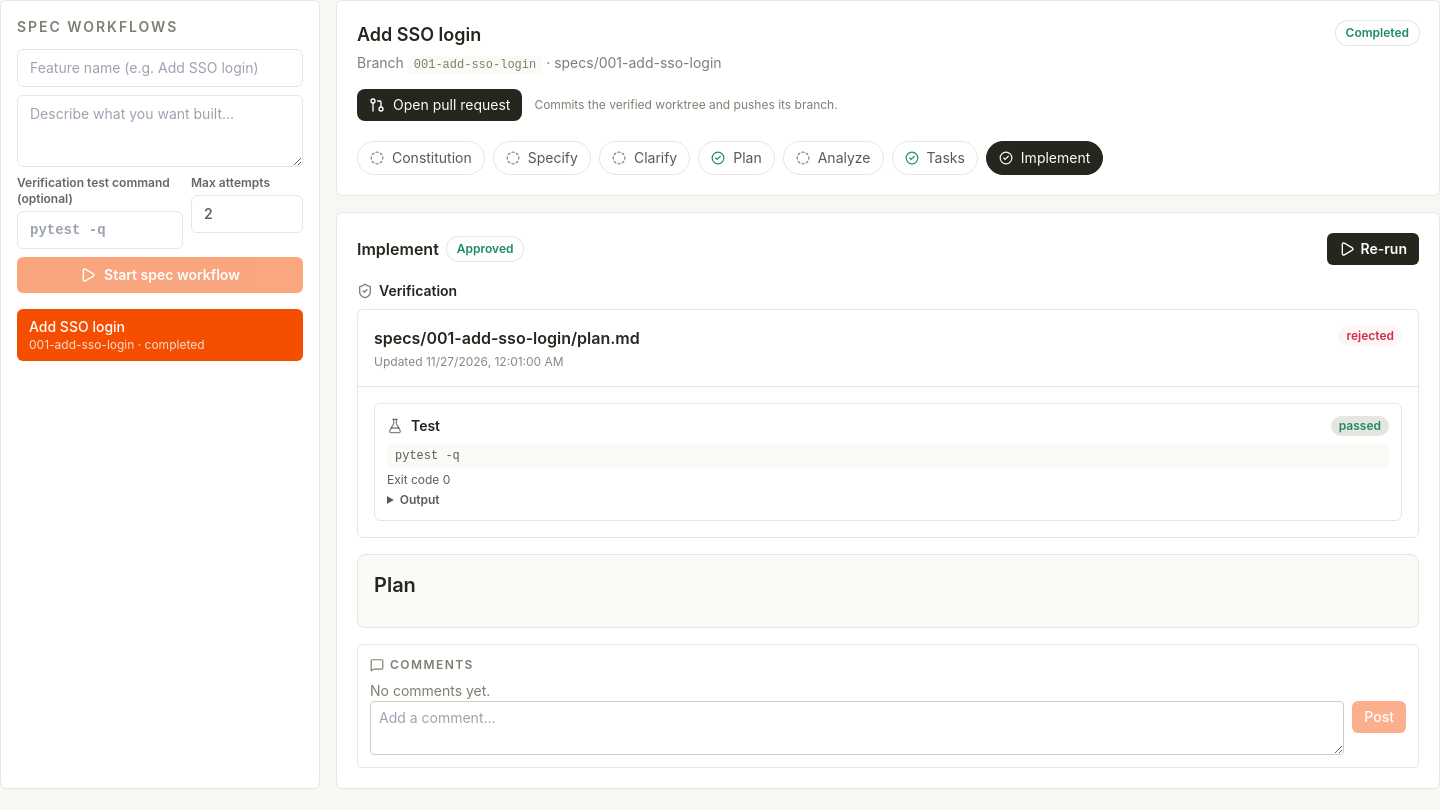
SpecPanel › pull request (Plan 4) › opens a pull request for a completed workflow and then links it
Click the button "Open pull request".
click(440, 105)  # box [357,89,522,121]
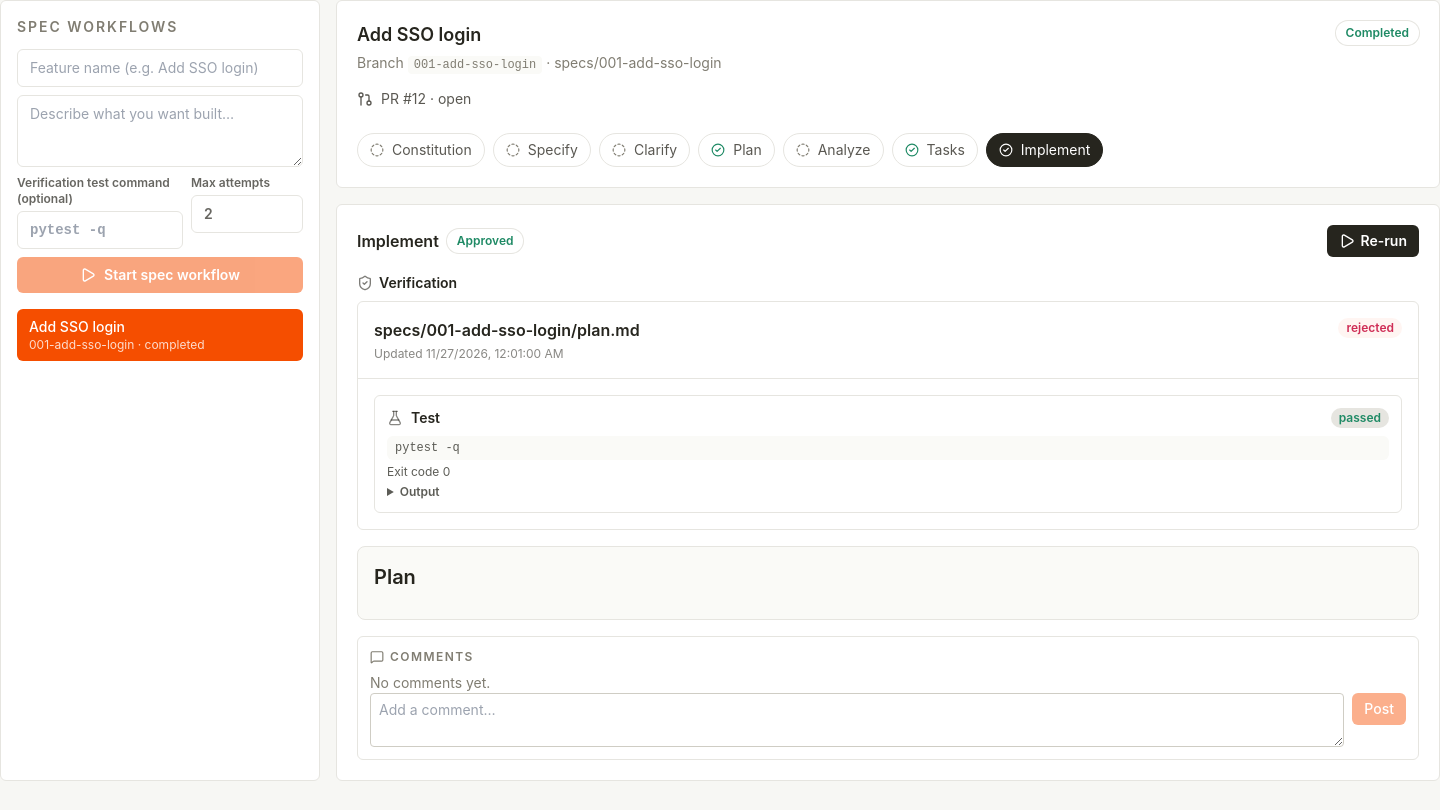
Expected: the button "Open pull request" is gone
